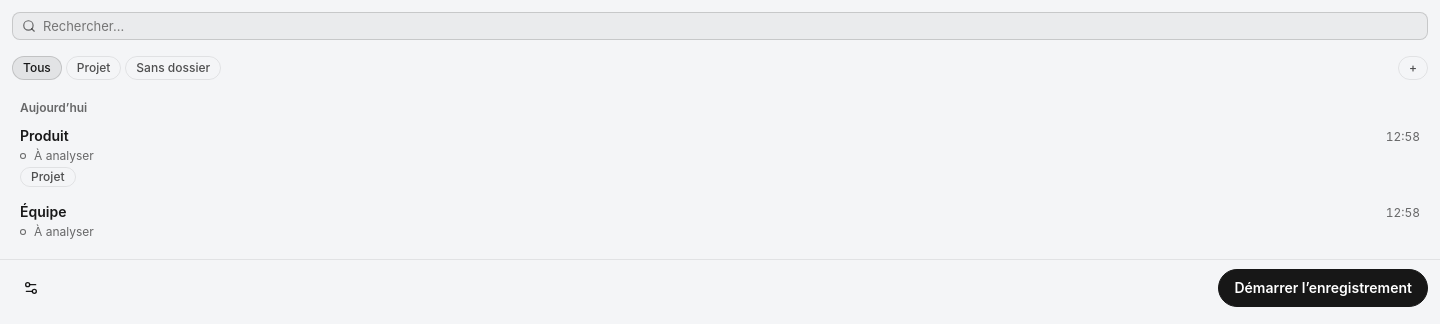
Test case: searches inside the selected folder and offers to search everywhere
Click the button "Projet": x=94, y=68 66,56 -> 121,80
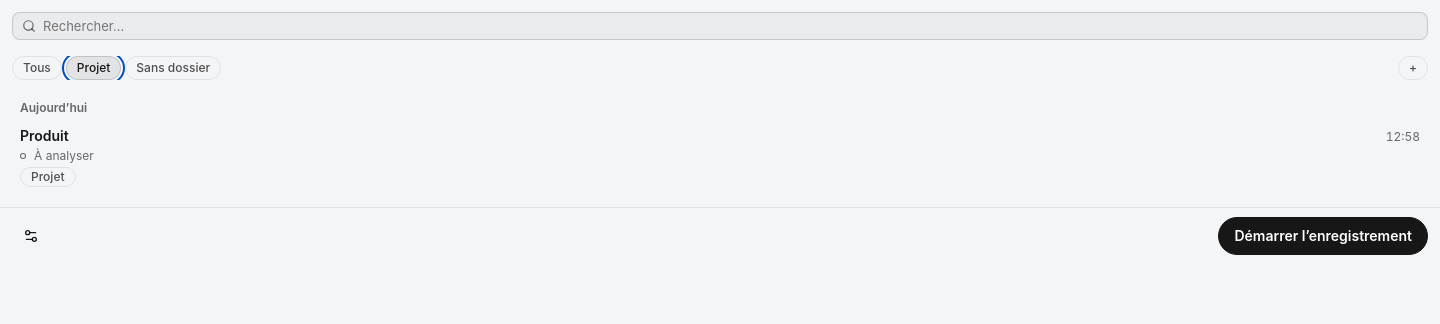
Expected: the option "Produit 12:58 À analyser Projet" is shown, 8,119 -> 1432,195
Now the option "Équipe" is gone
In the search field named "Rechercher une réunion": x=720, y=26 12,12 -> 1428,40, type "Équipe"
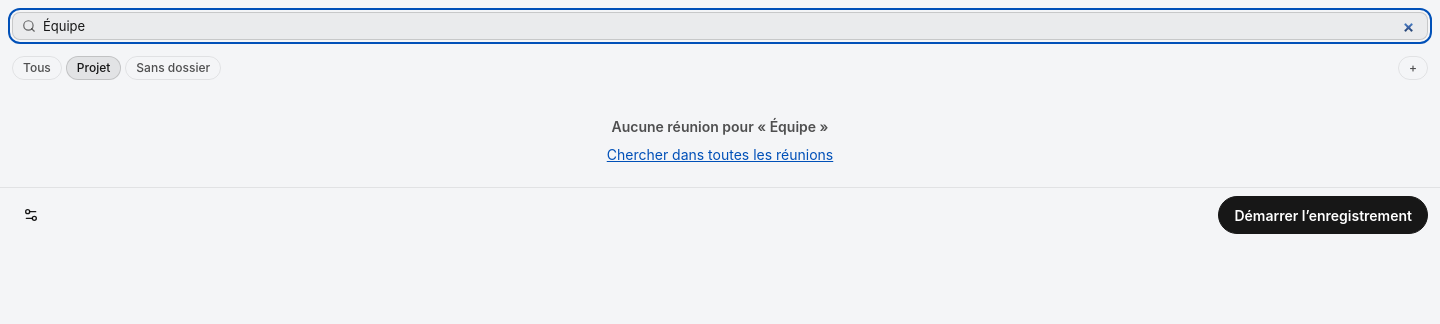
Now the text "Aucune réunion pour « Équipe »" is shown, box 612,116 -> 828,138
Click the button "Chercher dans toutes les réunions": x=720, y=154 607,146 -> 833,163
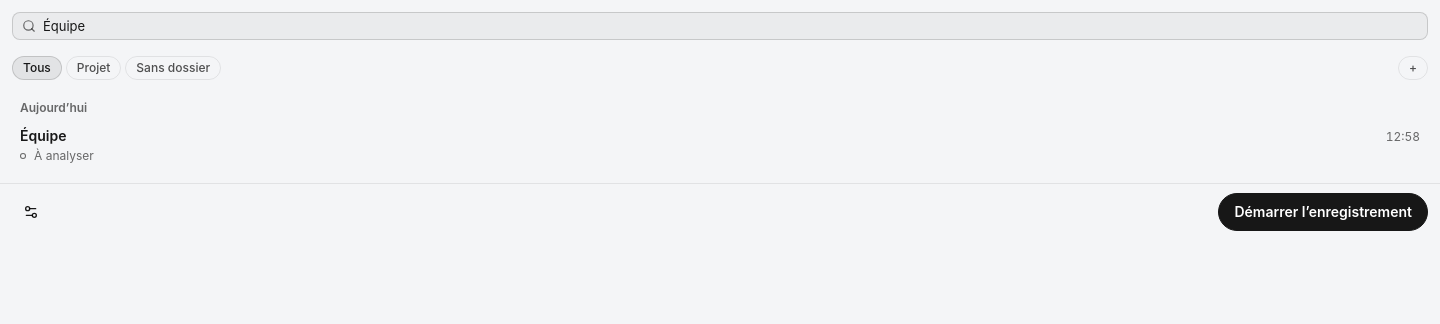
Now the option "Équipe 12:58 À analyser" is shown, box 8,119 -> 1432,171
